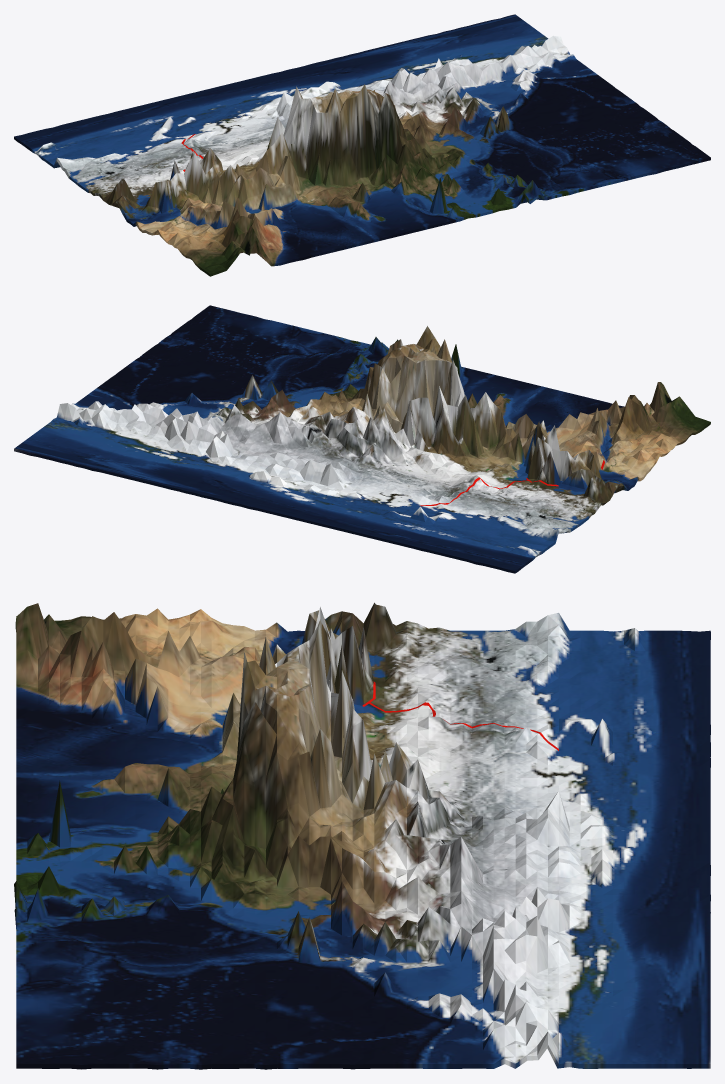
File: AsiaTerrain.glb
3 renders of one model, top to bottom at view 1: azimuth 30°, elevation 25°; view 2: azimuth 150°, elevation 25°; view 3: azimuth 270°, elevation 25°, orthographic. The views are drawn at different scales.
Parts seen in each view (by area): view 1: 亚洲; view 2: 亚洲; view 3: 亚洲.
Part boxes in pixels (left/top/right/bottom): 亚洲: left=14, top=14, right=710, bottom=276; 亚洲: left=14, top=305, right=710, bottom=573; 亚洲: left=14, top=602, right=710, bottom=1069.
Bounding box in the file's own units: 2.18 × 0.4142 × 1.47.
Materials: 2 (1 with a texture image).
